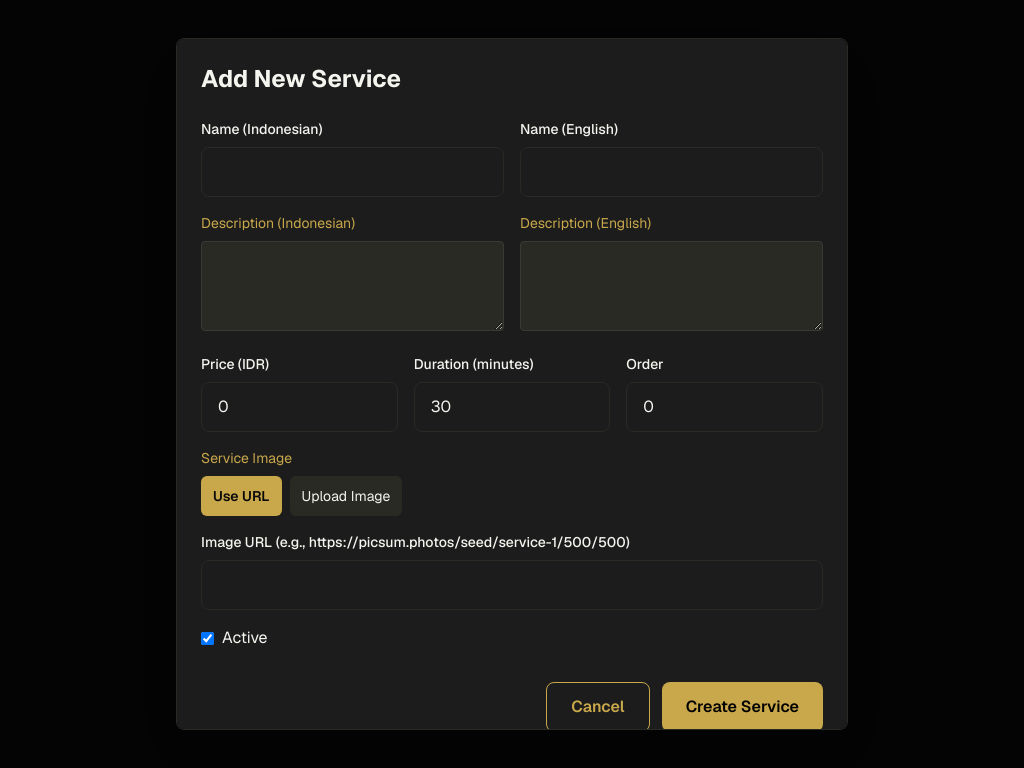
Scenario: ServiceForm › switches image mode to upload
The image size is (1024, 768).
Click the button "Upload Image".
click(346, 496)  # box [290, 476, 402, 516]
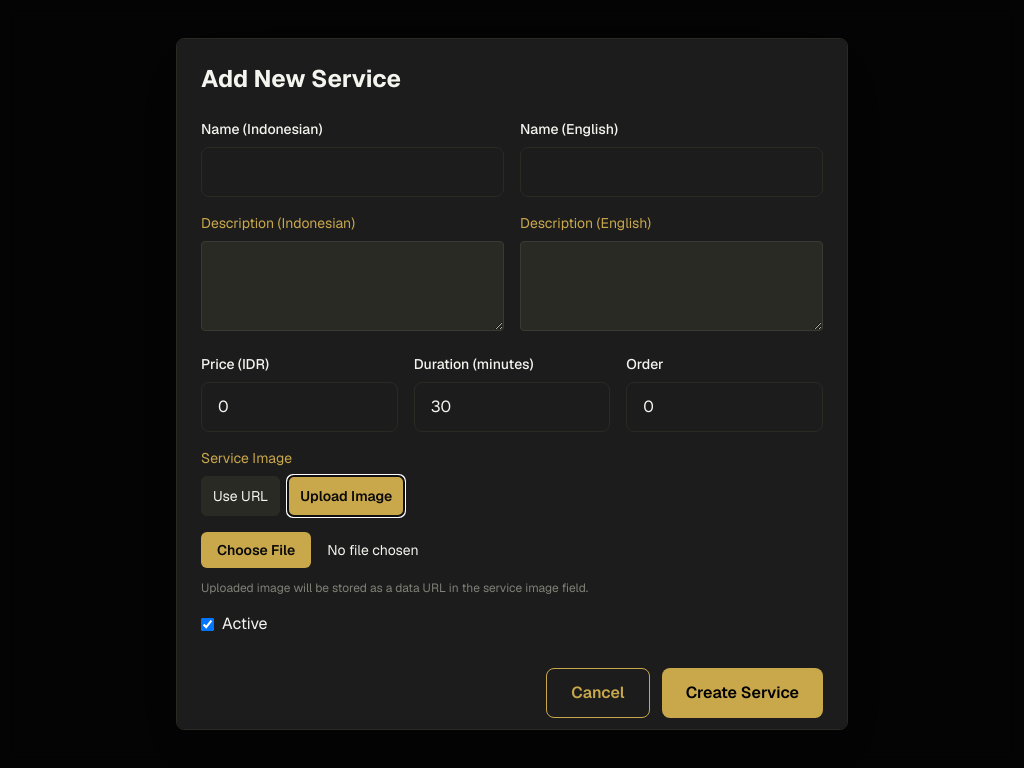
Check: the text "Uploaded image will be stored as a data URL" is shown, box [201, 580, 588, 596]
